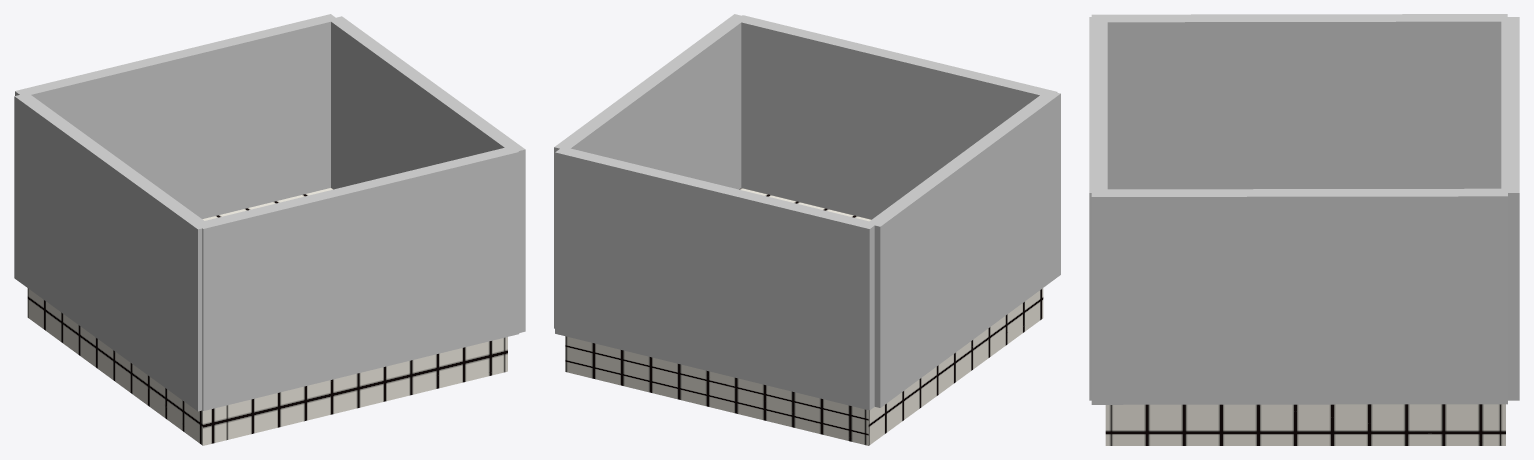
File: TestMap4Hit.fbx
3 renders of one model, left to right at view 1: azimuth 30°, elevation 25°; view 2: azimuth 150°, elevation 25°; view 3: azimuth 270°, elevation 25°, orthographic. The views are drawn at different scales.
Parts seen in each view (by area): view 1: 立方体, 立方体.001, 立方体.002, 立方体.003, Cube; view 2: 立方体.001, 立方体, 立方体.002, 立方体.003, Cube; view 3: 立方体.003, 立方体.002, Cube, 立方体.001, 立方体.
Boxes of the visible parts, bbox=[...] form: 立方体: bbox=[198, 147, 519, 410]; 立方体.001: bbox=[15, 14, 338, 218]; 立方体.002: bbox=[14, 95, 204, 411]; 立方体.003: bbox=[328, 16, 525, 332]; Cube: bbox=[27, 188, 507, 445]; 立方体.001: bbox=[555, 146, 876, 410]; 立方体: bbox=[741, 15, 1057, 219]; 立方体.002: bbox=[870, 92, 1060, 407]; 立方体.003: bbox=[554, 14, 747, 328]; Cube: bbox=[565, 188, 1043, 445]; 立方体.003: bbox=[1091, 188, 1507, 404]; 立方体.002: bbox=[1091, 14, 1507, 189]; Cube: bbox=[1105, 404, 1505, 445]; 立方体.001: bbox=[1501, 17, 1519, 400]; 立方体: bbox=[1089, 17, 1107, 400].
Bounding box in the file's own units: 956 × 622 × 949.
1 material, 1 textured.
